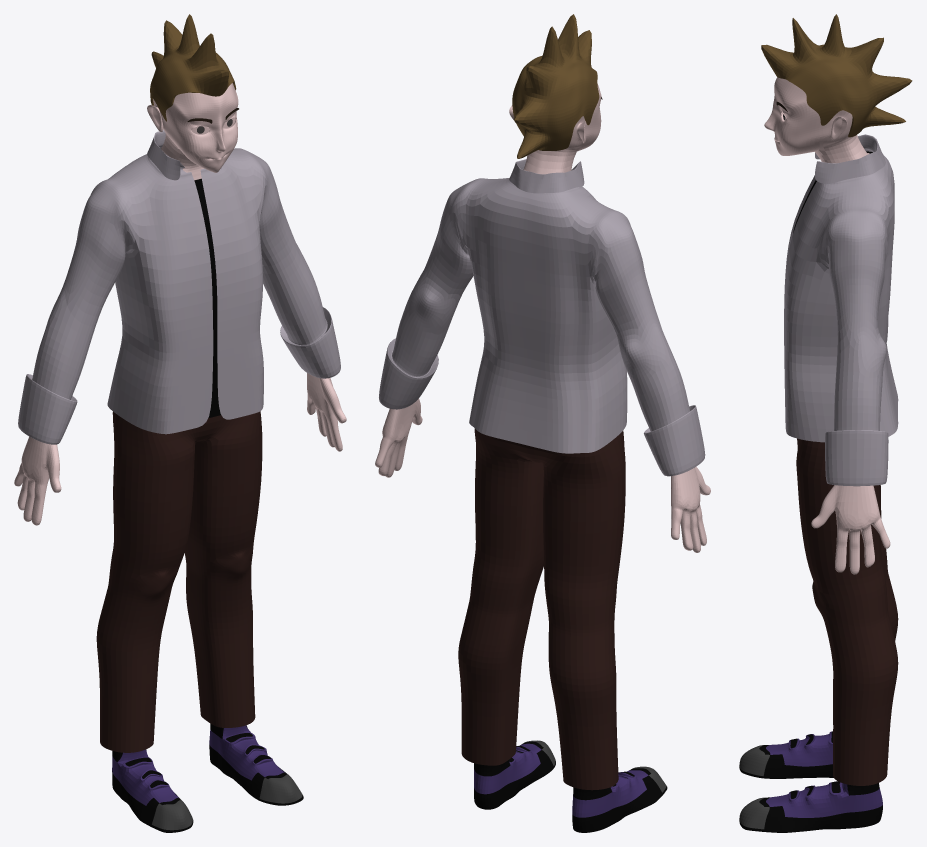
File: irokez_koszula_biała.fbx
The picture shows the model from 3 angles, left to right: view 1: azimuth 30°, elevation 25°; view 2: azimuth 150°, elevation 25°; view 3: azimuth 270°, elevation 25°; orthographic projection.
Parts seen in each view (by area): view 1: Shirt, Pants, Body, Shoes, Hair_random2, T-Shirt; view 2: Shirt, Pants, Hair_random2, Shoes, Body; view 3: Shirt, Pants, Shoes, Body, Hair_random2.
Part boxes in pixels (<box>): Shirt: <box>18,130,340,444</box>; Pants: <box>96,411,262,752</box>; Body: <box>14,83,346,525</box>; Shoes: <box>112,723,303,832</box>; Hair_random2: <box>150,14,236,121</box>; T-Shirt: <box>194,178,220,418</box>; Shirt: <box>379,159,705,476</box>; Pants: <box>458,428,625,790</box>; Hair_random2: <box>512,14,599,158</box>; Shoes: <box>474,740,667,832</box>; Body: <box>375,83,710,552</box>; Shirt: <box>784,134,898,486</box>; Pants: <box>796,438,898,785</box>; Shoes: <box>739,731,882,832</box>; Body: <box>764,77,890,574</box>; Hair_random2: <box>761,14,912,137</box>.
Size of the model in its own units: 80.87 by 191 by 38.31.
